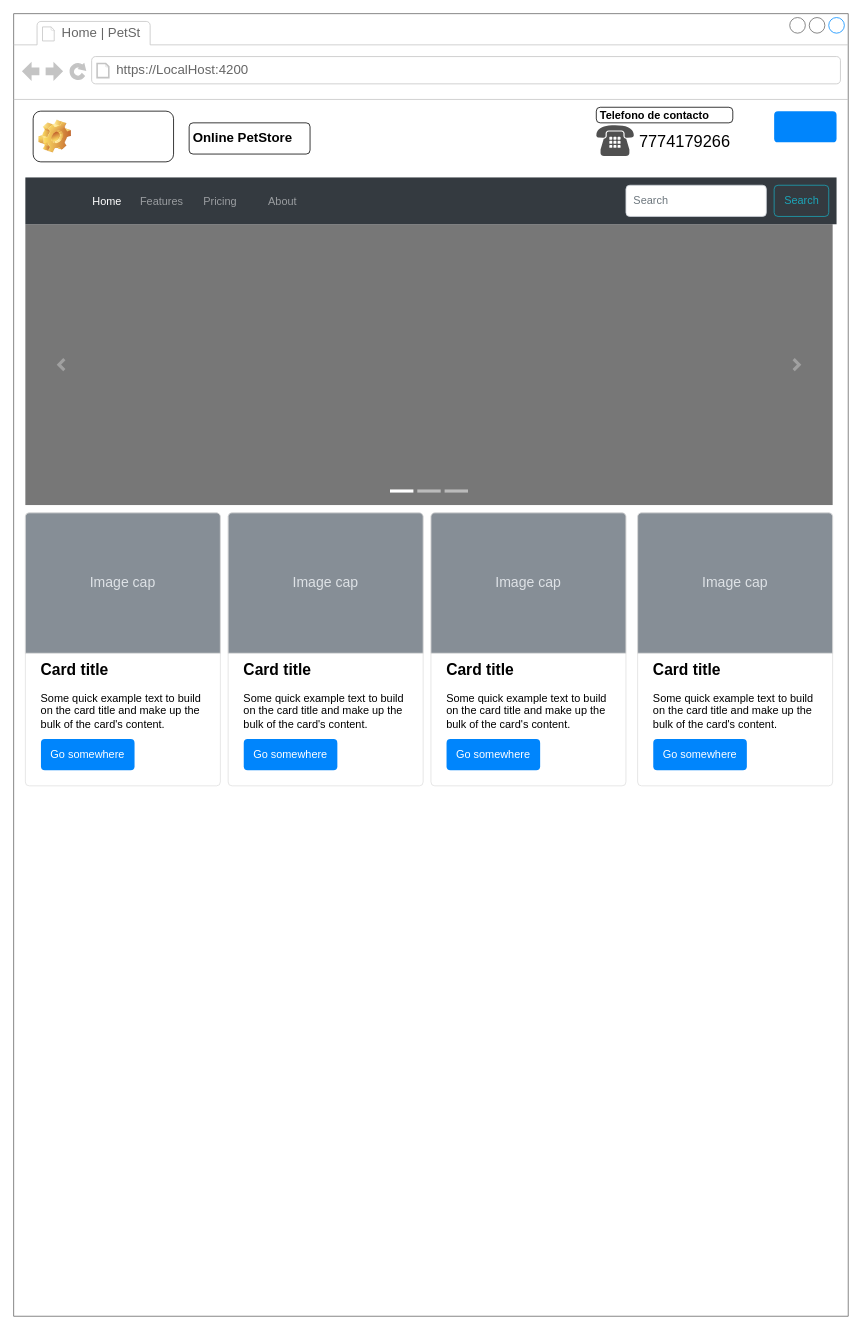
The diagram is 862 pixels wide and 1330 high, and some of its shapes have lost their labels. The box of each missing label's shape, as (x1, y1, x2, y2) in pixels:
First slide: (25, 224, 832, 505)
Login: (774, 111, 836, 142)
Logo: (32, 110, 174, 162)
Navbar: (25, 177, 836, 224)
